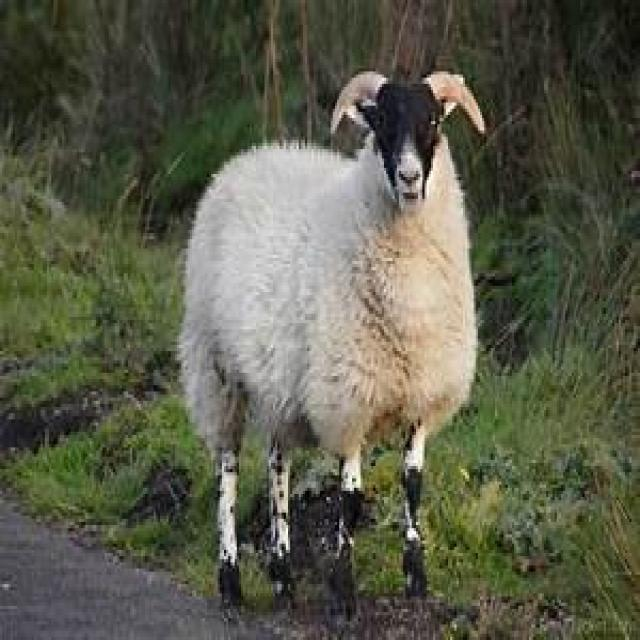animal: (175, 66, 486, 622)
